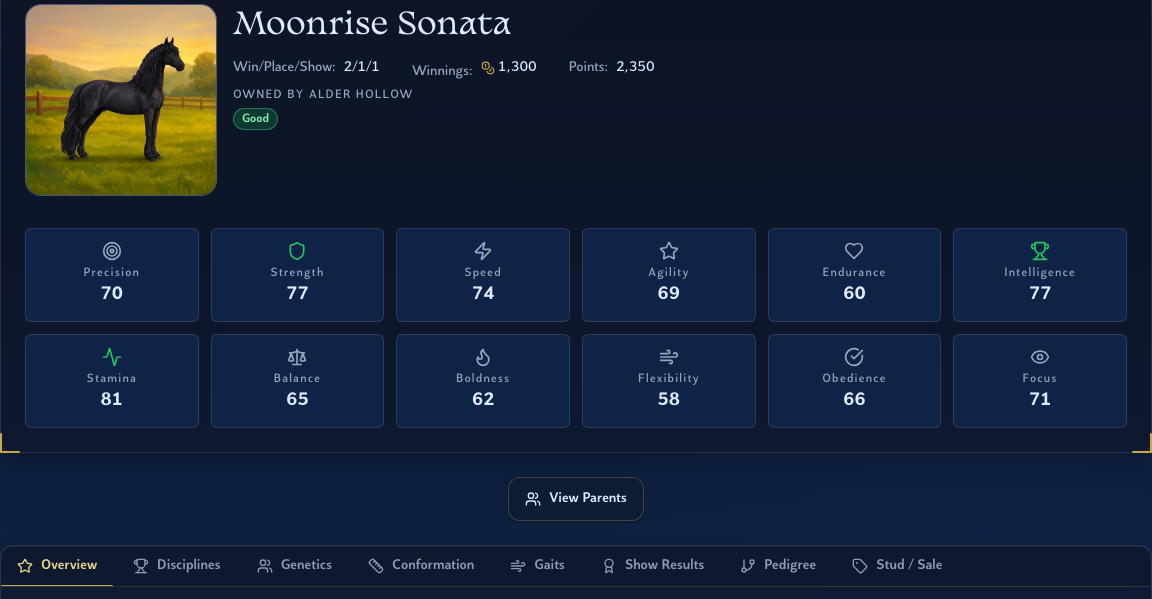
the horse page in visitor mode is the owner page, read-only › Show Results pages through the visit ledger
Expected: the heading "Moonrise Sonata" is shown, [233, 10, 512, 42]
Click the tab "Show Results" at (653, 566), box [585, 546, 720, 586]
(page scrolled)
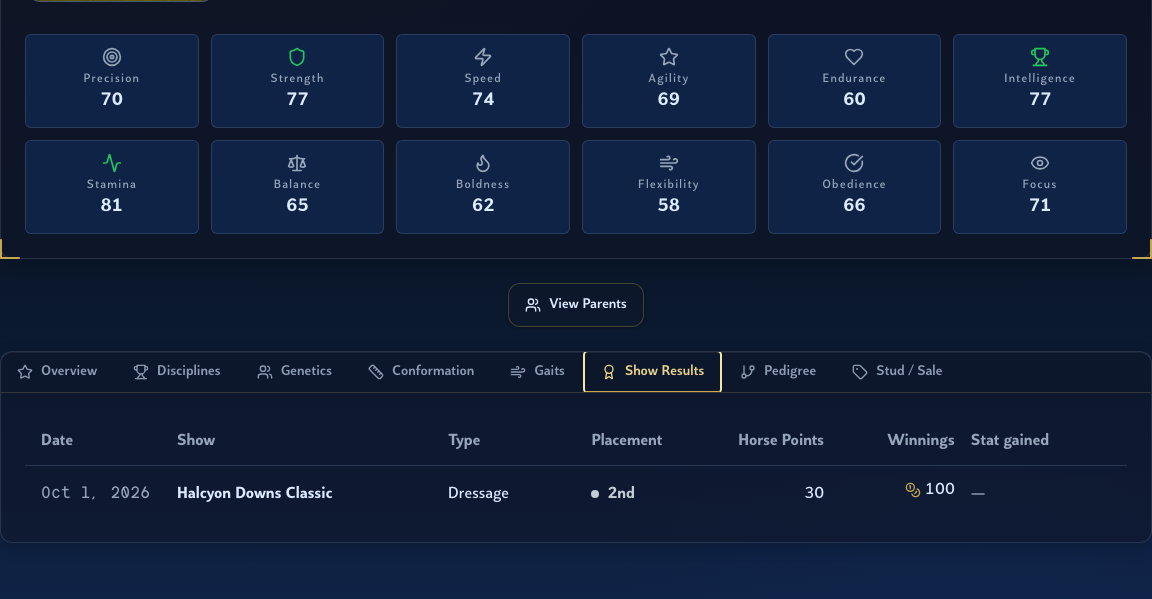
Expected: the text "Halcyon Downs Classic" is shown, [177, 486, 333, 502]
